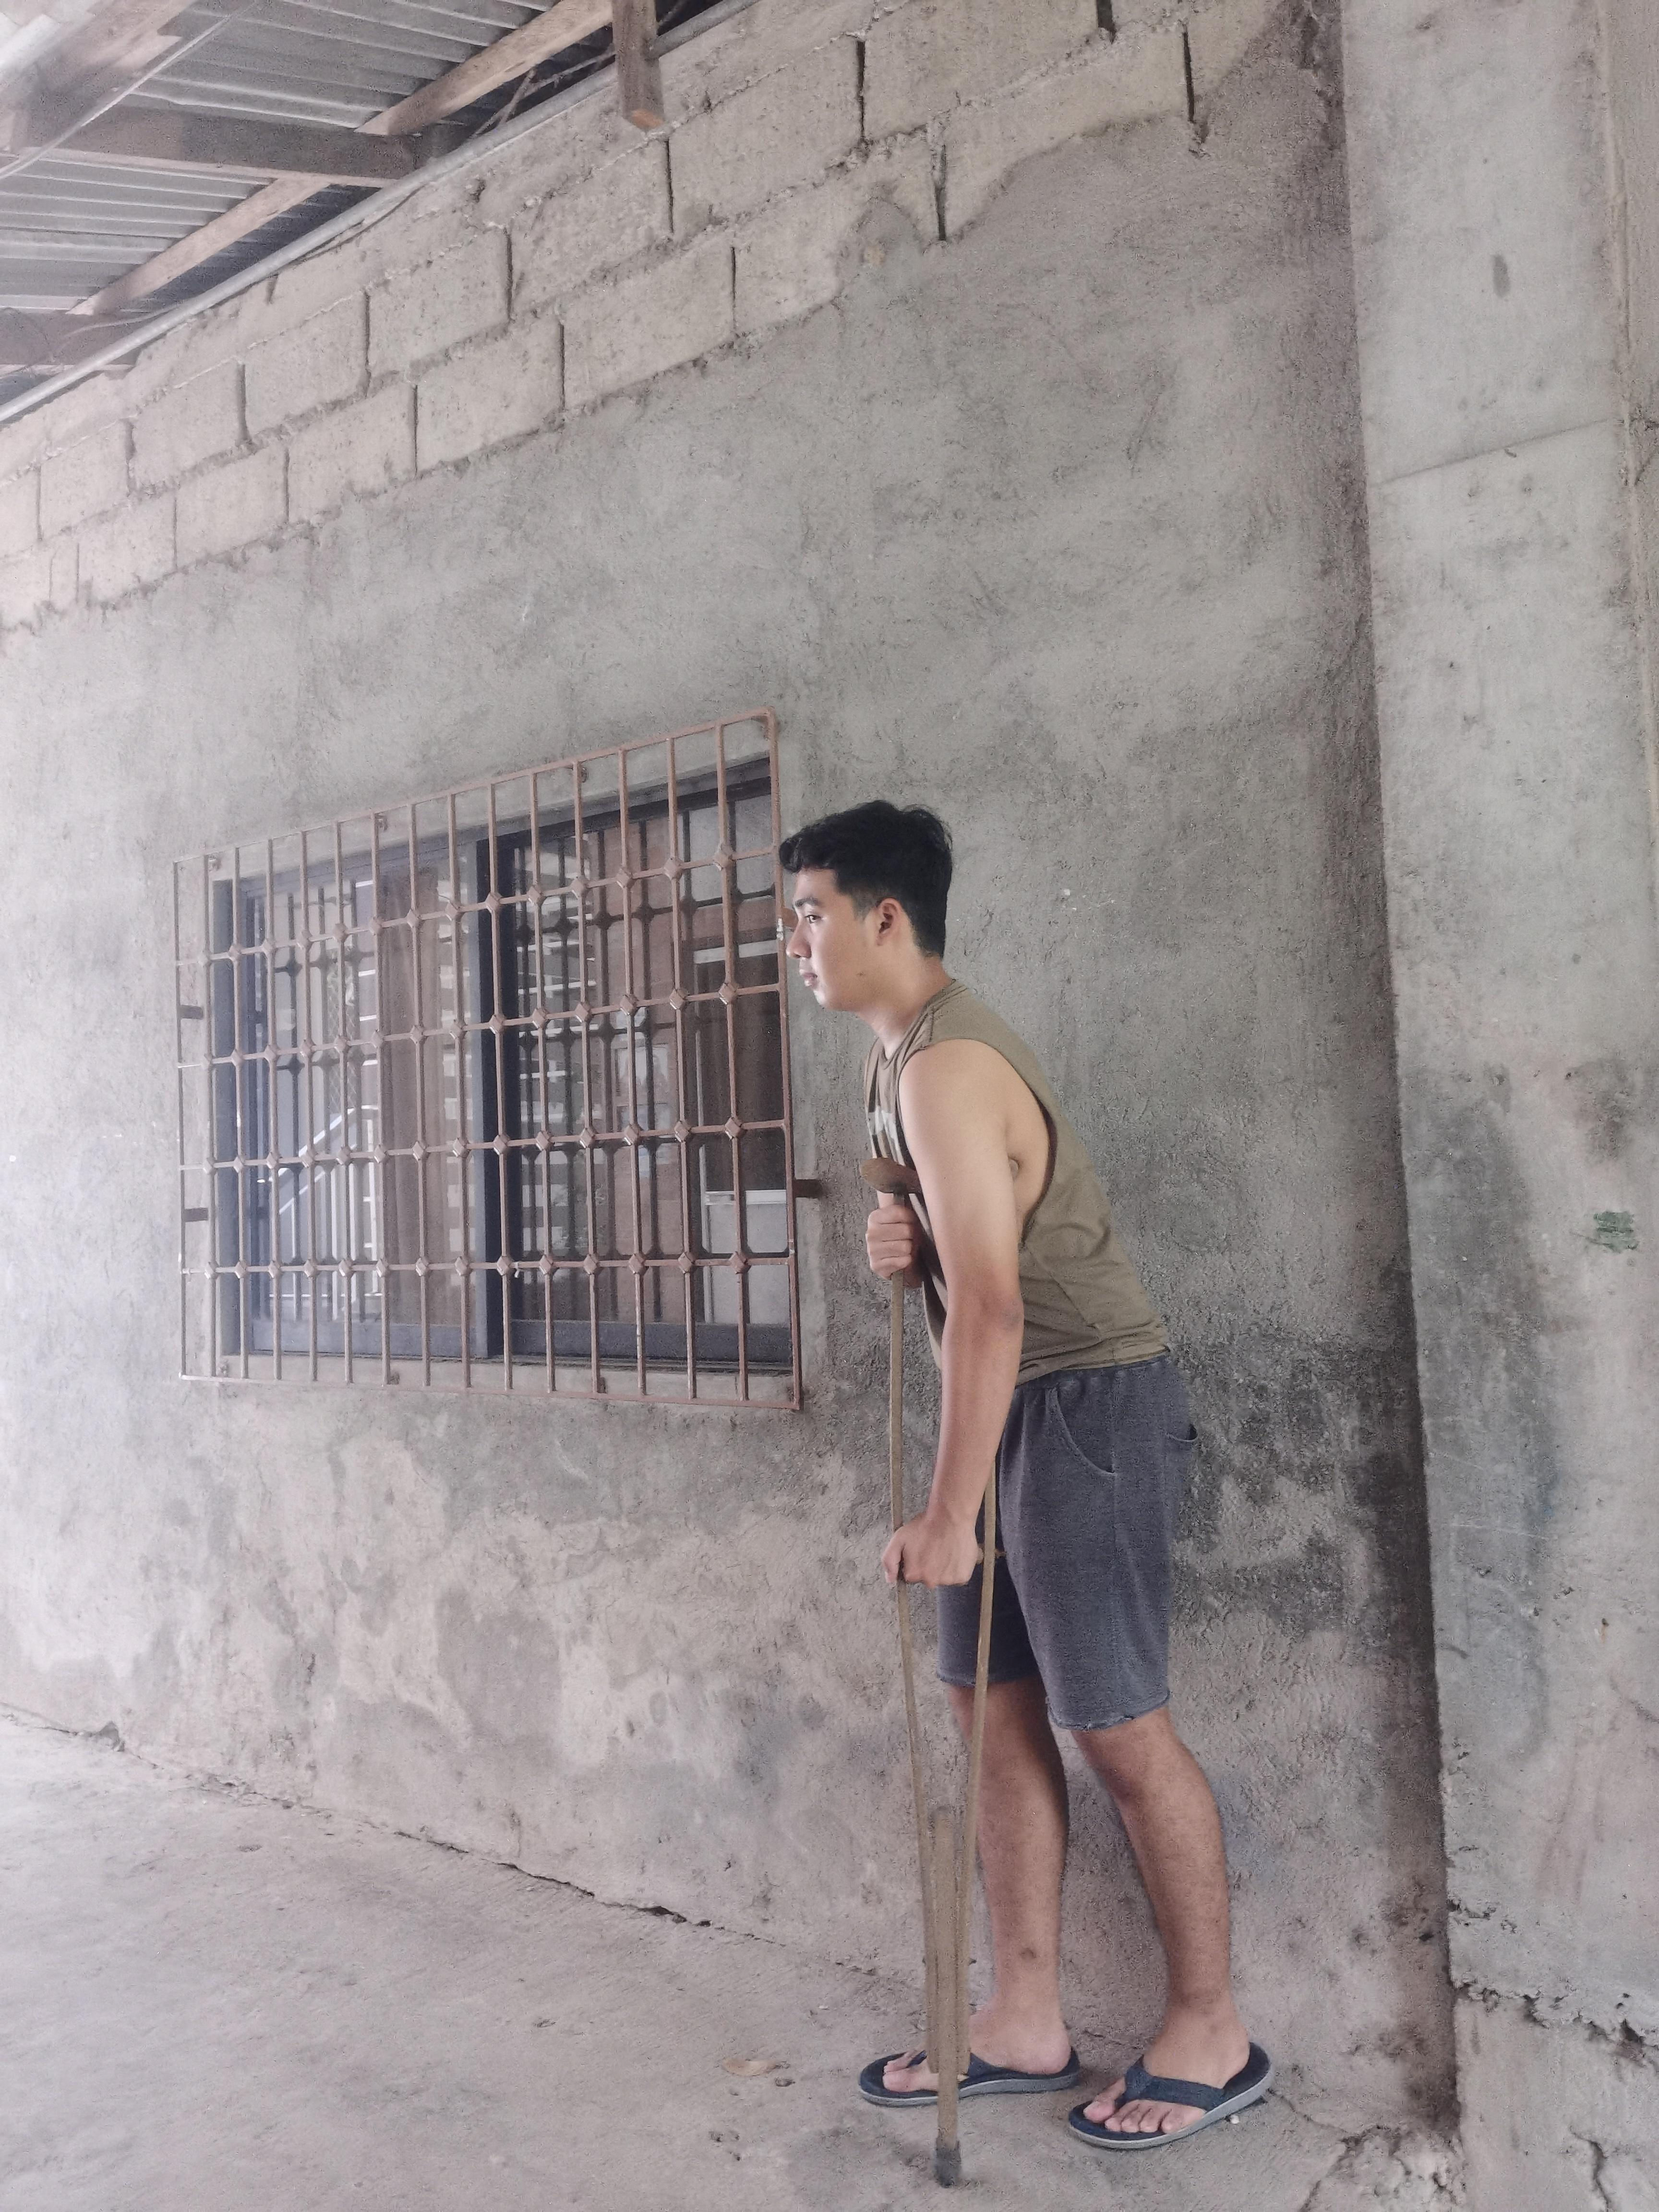crutches: (765, 779, 1293, 2212)
